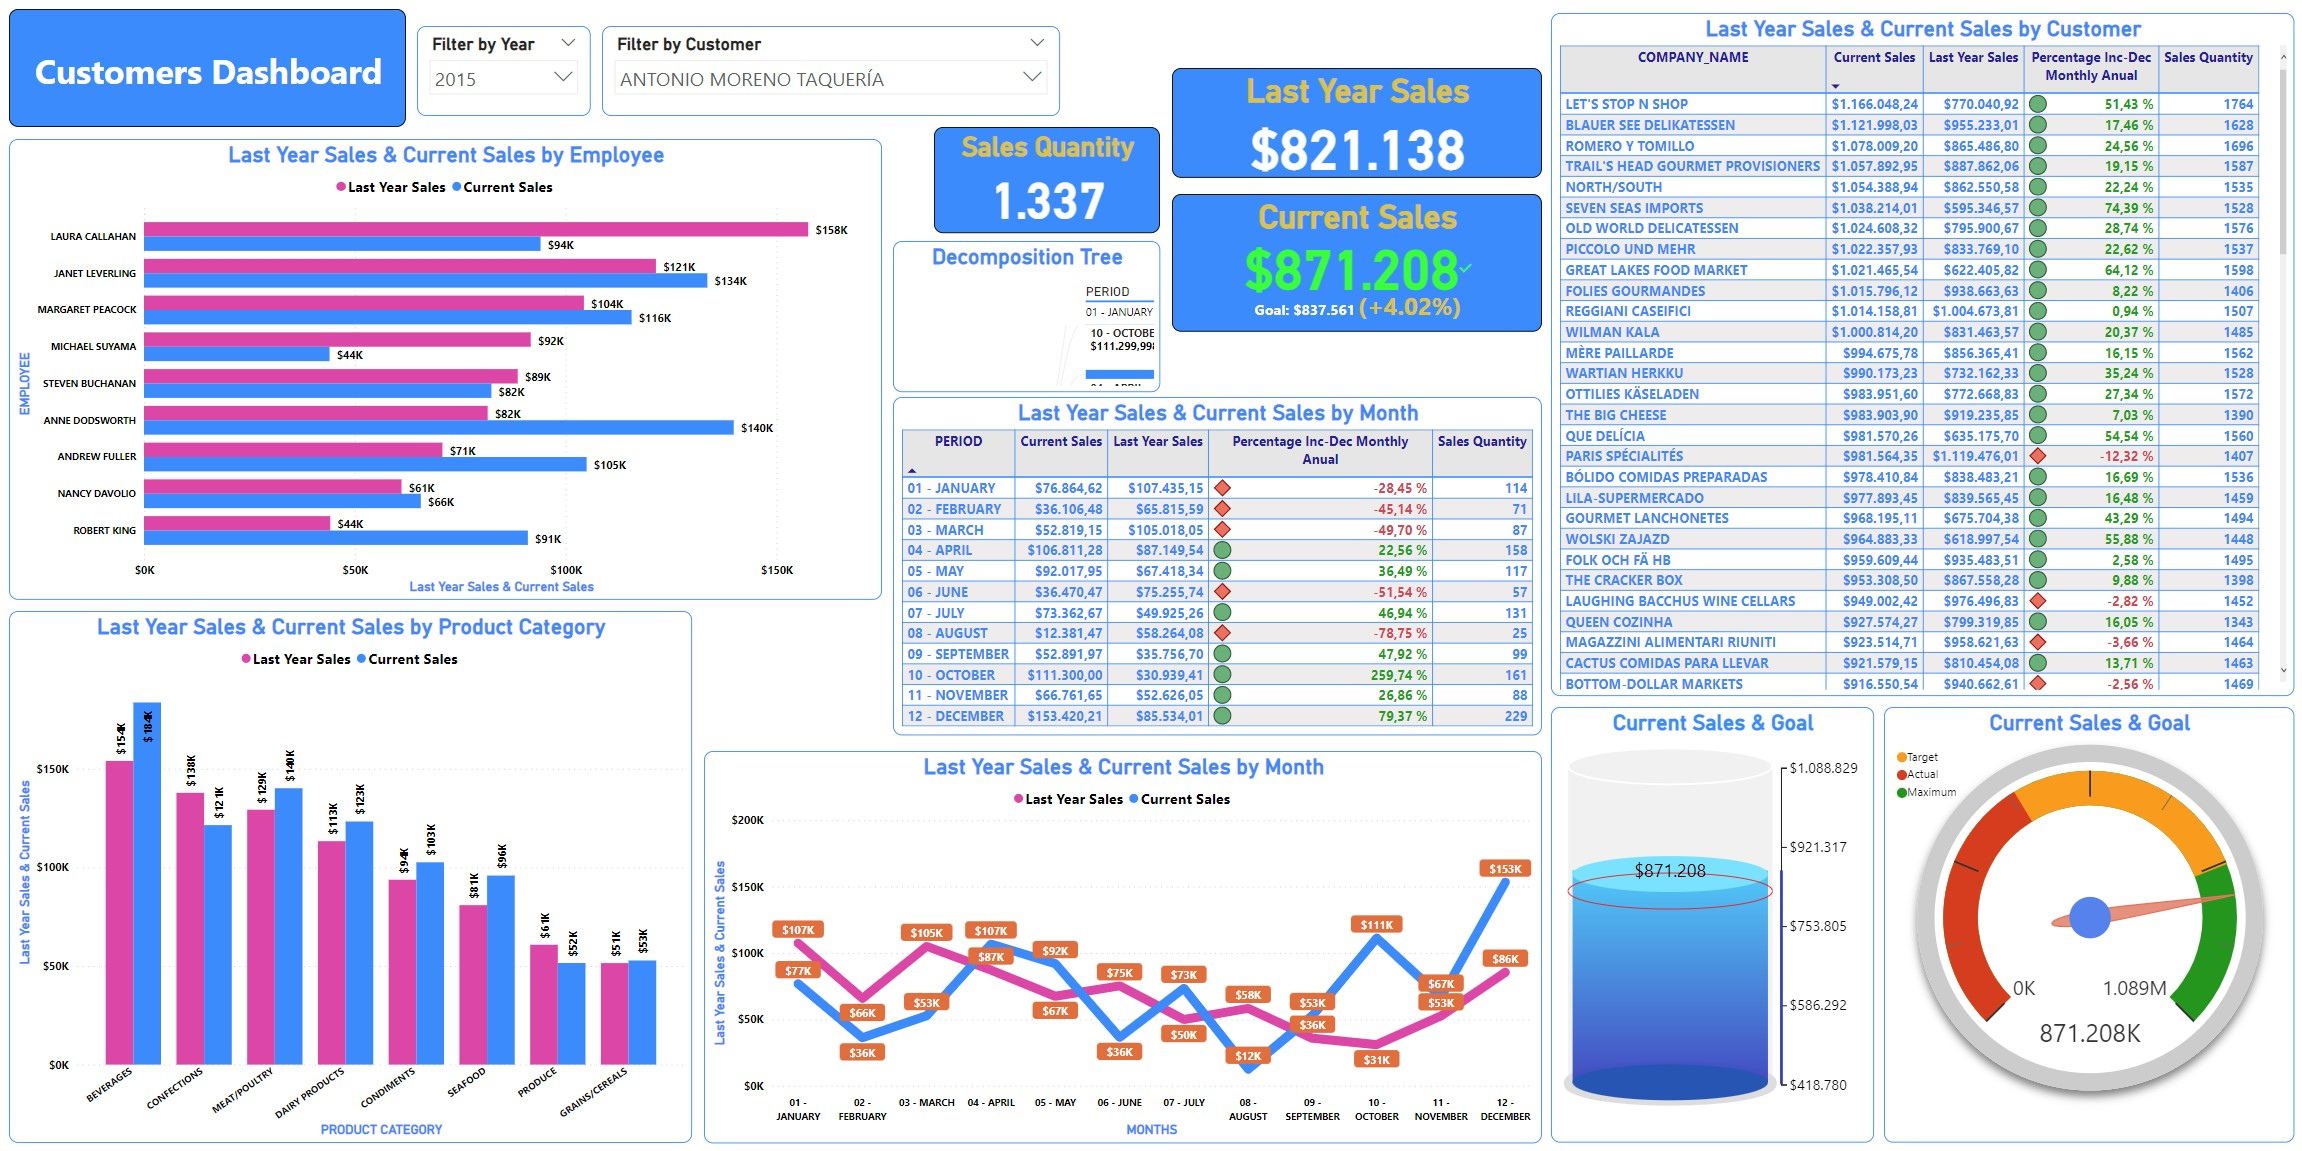

What the dashboard file says about the page in this screenshot:
{"tool":"powerbi","page":{"name":"Customers","canvas":[2560,1280],"ordinal":2},"visuals":[{"type":"slicer","fields":{"Values":["DIM_TIME.YEAR"]},"box":[463.3,28.9,193.3,100],"z":0},{"type":"card","title":"Last Year Sales","fields":{"Values":["METRICAS.Ventas del año anterior"]},"box":[1302.2,75.6,411.1,122.2],"z":1000},{"type":"kpi","title":"Current Sales","fields":{"Indicator":["METRICAS.Ventas actuales"],"TrendLine":["DIM_TIME.YEAR"],"Goal":["METRICAS.Monto Meta"]},"box":[1302.2,215.6,411.1,153.3],"z":2000},{"type":"tableEx","title":"Last Year Sales & Current Sales by Month","fields":{"Values":["DIM_TIME.PERIOD","METRICAS.Ventas actuales","METRICAS.Ventas del año anterior","METRICAS.Porcentaje Inc-Dec Mensual Anual","METRICAS.Cantidad de ordenes"]},"box":[992.2,441.1,721.1,375.6],"z":3000},{"type":"card","title":"Sales Quantity","fields":{"Values":["METRICAS.Cantidad de ordenes"]},"box":[1037.8,141.1,251.1,117.8],"z":4000},{"type":"clusteredBarChart","title":"Last Year Sales & Current Sales by Employee","fields":{"Category":["DIM_EMPLOYEES.EMPLOYEE_NAME"],"Y":["METRICAS.Last Year Sales","METRICAS.Current Sales"]},"box":[10,154.4,970,512.2],"z":5000},{"type":"lineChart","title":"Last Year Sales & Current Sales by Month","fields":{"Category":["DIM_TIME.PERIOD"],"Y":["METRICAS.Ventas del año anterior","METRICAS.Ventas actuales"]},"box":[782.2,834.4,931.1,435.6],"z":6000},{"type":"clusteredColumnChart","title":"Last Year Sales & Current Sales by Product Category","fields":{"Y":["METRICAS.Ventas del año anterior","METRICAS.Ventas actuales"],"Category":["DIM_PRODUCTS.CATEGORY"]},"box":[10,678.9,758.9,591.1],"z":7000},{"type":"textbox","box":[10,10,441.1,131.1],"z":8000},{"type":"slicer","fields":{"Values":["DIM_CUSTOMERS.COMPANY_NAME"]},"box":[668.9,28.9,508.9,100],"z":9000},{"type":"tableEx","title":"Last Year Sales & Current Sales by Customer","fields":{"Values":["DIM_CUSTOMERS.COMPANY_NAME","METRICAS.Ventas actuales","METRICAS.Ventas del año anterior","METRICAS.Porcentaje Inc-Dec Mensual Anual","METRICAS.Cantidad de ordenes"]},"box":[1723.3,14.4,825.6,758.9],"z":10000},{"type":"decompositionTreeVisual","title":"Decomposition Tree","fields":{"Analyze":["METRICAS.Current Sales"],"ExplainBy":["DIM_TIME.PERIOD","DIM_EMPLOYEES.EMPLOYEE_NAME","DIM_PRODUCTS.CATEGORY","DIM_PRODUCTS.PRODUCT_NAME","DIM_PRODUCTS.SUPPLIER","DIM_CUSTOMERS.CONTACT_NAME"]},"box":[992.2,267.8,296.7,167.8],"z":11000},{"type":"dg5AAA90EFEFE747CB9357C4FC19B85A58","title":"Current Sales & Goal","fields":{"pointerValue":["METRICAS.Current Sales"],"redEnd":["METRICAS.Min Sales"],"max":["METRICAS.Max Sales"],"yellowEnd":["METRICAS.Last Year Sales"]},"box":[2093.3,785.6,455.6,484.4],"z":12000},{"type":"cylindricalGauge73A12A442345453EB69B593649C3A341","title":"Current Sales & Goal","fields":{"Values":["METRICAS.Current Sales"],"TargetValue":["METRICAS.Goal"],"Min":["METRICAS.Min Sales"],"Max":["METRICAS.Max Sales"]},"box":[1723.3,785.6,358.9,484.4],"z":13000}]}

Visuals, with their boxes in screenshot pixels (x1, y1, x2, y2), scaled from the page's 2560x1280 canvas onto the 2302x1151 screenshot:
slicer - DIM_TIME.YEAR: crop(417, 26, 590, 116)
"Last Year Sales" card: crop(1171, 68, 1541, 178)
"Current Sales" kpi: crop(1171, 194, 1541, 332)
"Last Year Sales & Current Sales by Month" tableEx: crop(892, 397, 1541, 734)
"Sales Quantity" card: crop(933, 127, 1159, 233)
"Last Year Sales & Current Sales by Employee" clusteredBarChart: crop(9, 139, 881, 599)
"Last Year Sales & Current Sales by Month" lineChart: crop(703, 750, 1541, 1142)
"Last Year Sales & Current Sales by Product Category" clusteredColumnChart: crop(9, 610, 691, 1142)
textbox: crop(9, 9, 406, 127)
slicer - DIM_CUSTOMERS.COMPANY_NAME: crop(601, 26, 1059, 116)
"Last Year Sales & Current Sales by Customer" tableEx: crop(1550, 13, 2292, 695)
"Decomposition Tree" decompositionTreeVisual: crop(892, 241, 1159, 392)
"Current Sales & Goal" dg5AAA90EFEFE747CB9357C4FC19B85A58: crop(1882, 706, 2292, 1142)
"Current Sales & Goal" cylindricalGauge73A12A442345453EB69B593649C3A341: crop(1550, 706, 1872, 1142)
